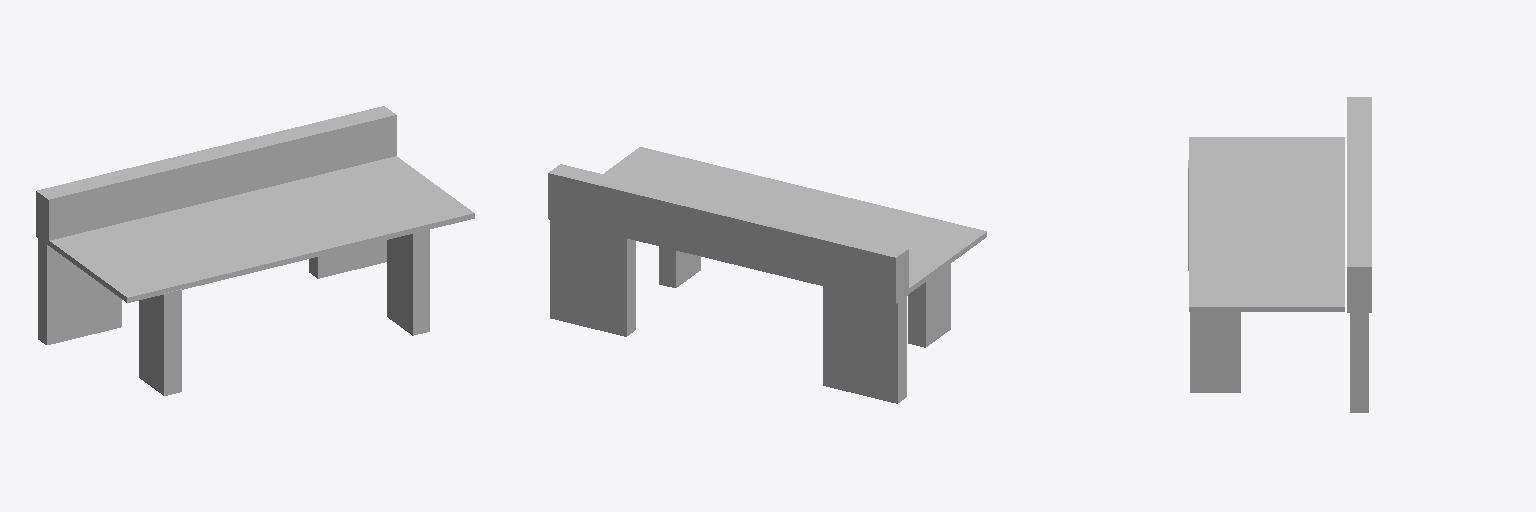
File: 2ndLevelBuilding.obj
3 views of the same model, side by side, from view 1: azimuth 30°, elevation 25°; view 2: azimuth 150°, elevation 25°; view 3: azimuth 270°, elevation 25° (orthographic).
Visible parts, largest first — view 1: Cube.004; view 2: Cube.004; view 3: Cube.004.
Part boxes in pixels (bbox=[...]): Cube.004: bbox=[36, 106, 474, 395]; Cube.004: bbox=[548, 147, 986, 403]; Cube.004: bbox=[1188, 97, 1371, 412].
Size of the model in its own units: 15.74 by 6.41 by 7.18.